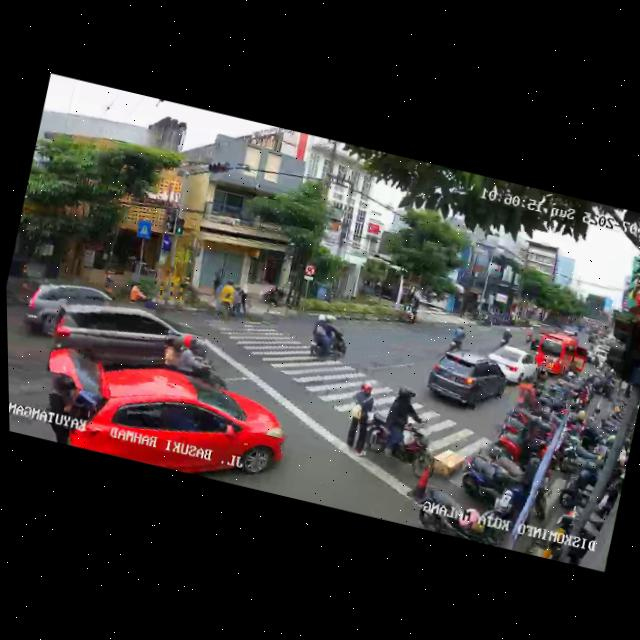car: (56, 347, 295, 493), (51, 288, 215, 387), (18, 269, 117, 351), (424, 343, 511, 415), (531, 330, 591, 385), (482, 341, 541, 389)
motorcycle: (356, 378, 439, 470), (157, 326, 241, 393), (303, 311, 354, 369), (445, 322, 470, 356), (496, 325, 514, 351)
person: (339, 379, 384, 457), (215, 278, 238, 322), (235, 282, 252, 316), (228, 286, 244, 318)
